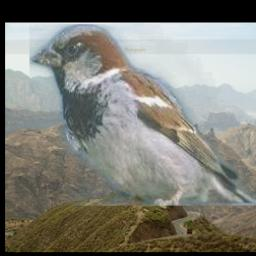Sparrow: (30, 24, 256, 206)
